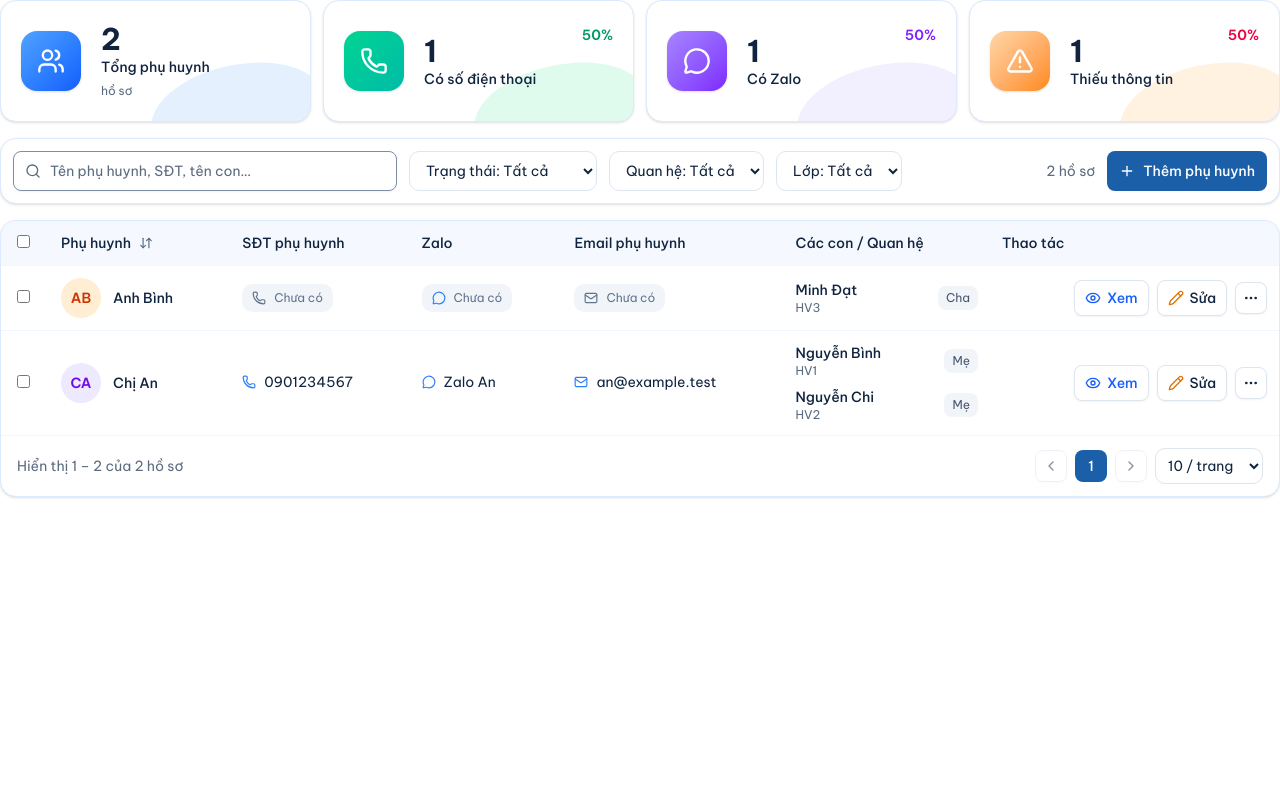
Scenario: opens the matching list for Tổng phụ huynh: 2
What coordinates should you click on to do the following:
click the button with aria-label "Tổng phụ huynh: 2"
I would click on:
 (156, 61)
Its box is [0,0,311,122].
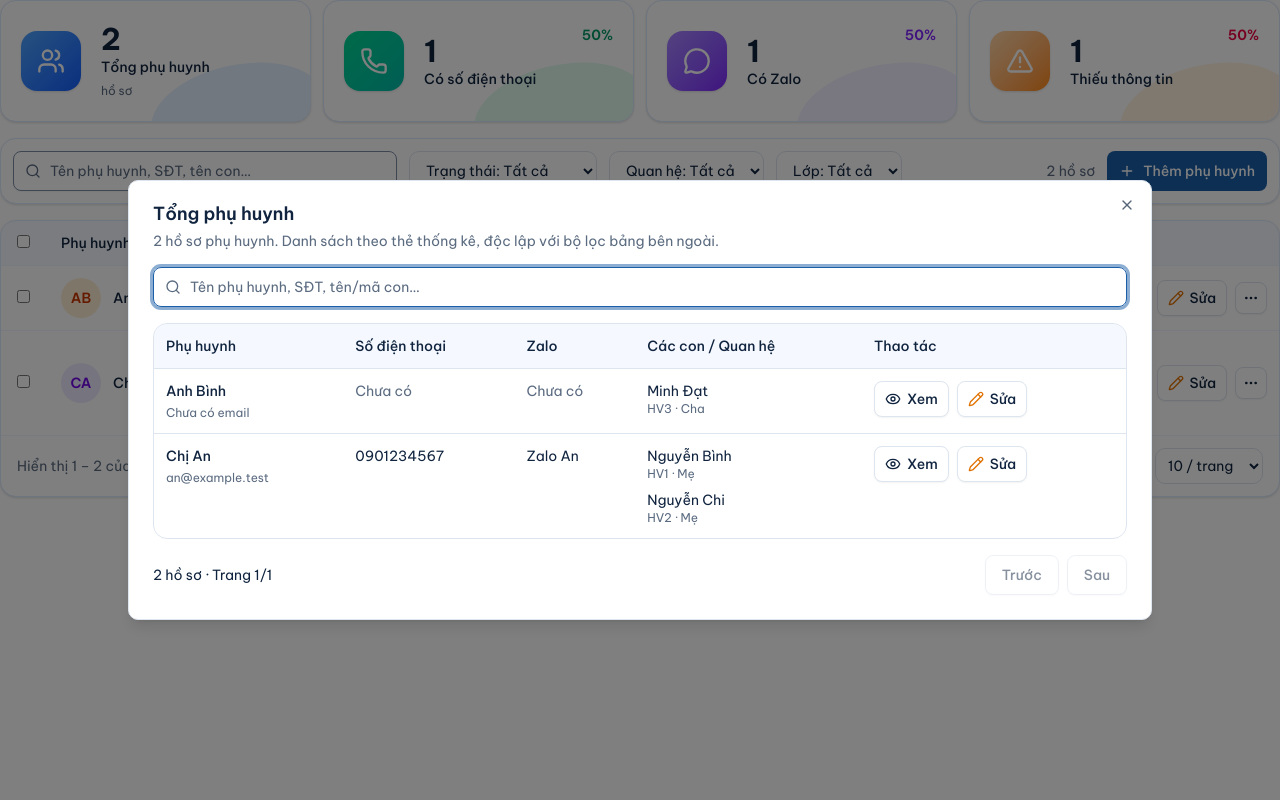
Result: the text "Chị An" is shown at [166,447,211,465]
Result: the text "Anh Bình" is shown at [166,382,226,400]
